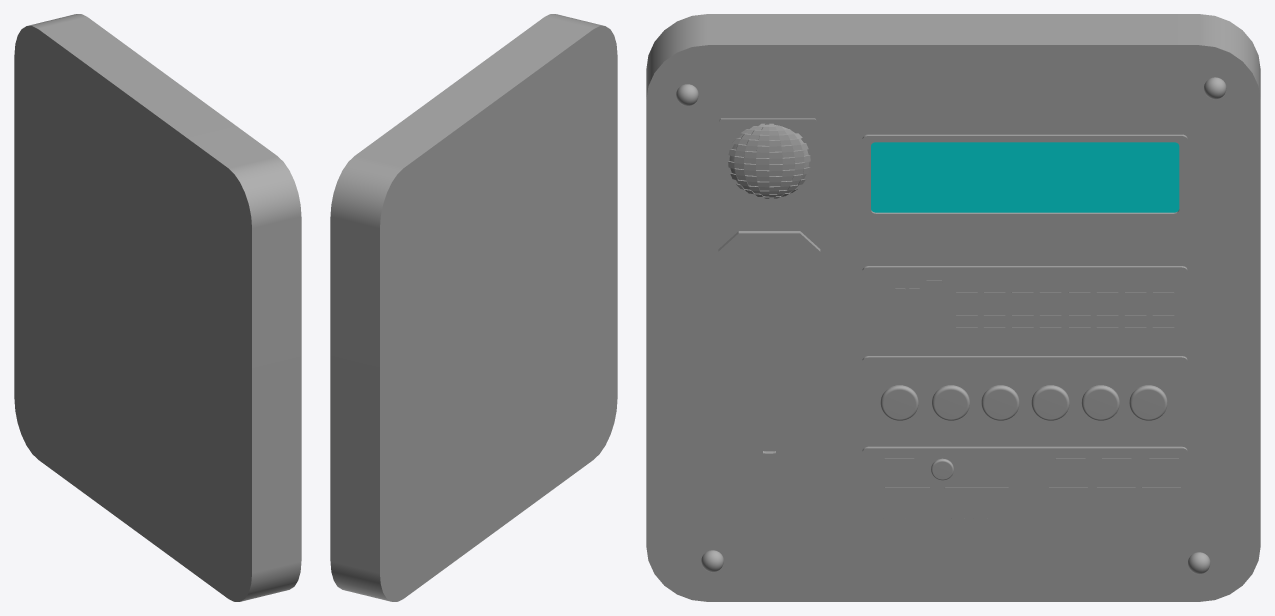
File: ControlPanel.fbx
3 views of the same model, side by side, from view 1: azimuth 30°, elevation 25°; view 2: azimuth 150°, elevation 25°; view 3: azimuth 270°, elevation 25° (orthographic). The views are drawn at different scales.
Parts seen in each view (by area): view 1: ControlPanel; view 2: ControlPanel; view 3: ControlPanel.
Part boxes in pixels (x1=…): ControlPanel: x1=14, y1=14, x2=301, y2=601; ControlPanel: x1=330, y1=14, x2=617, y2=601; ControlPanel: x1=646, y1=14, x2=1260, y2=601.
Size of the model in its own units: 0.1399 by 1 by 1.
